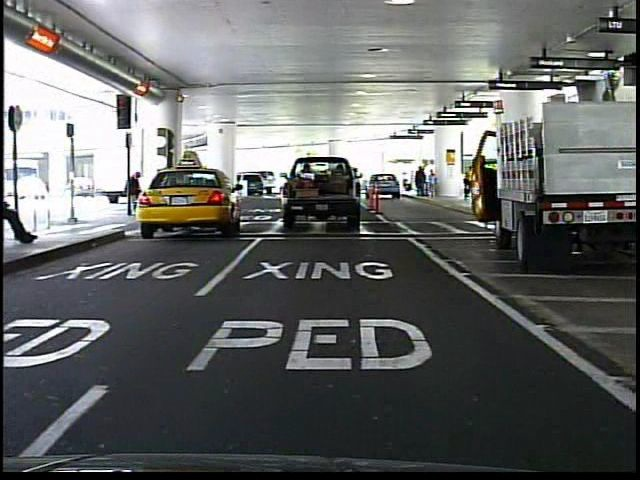person: (0, 165, 44, 246), (126, 165, 149, 221)
